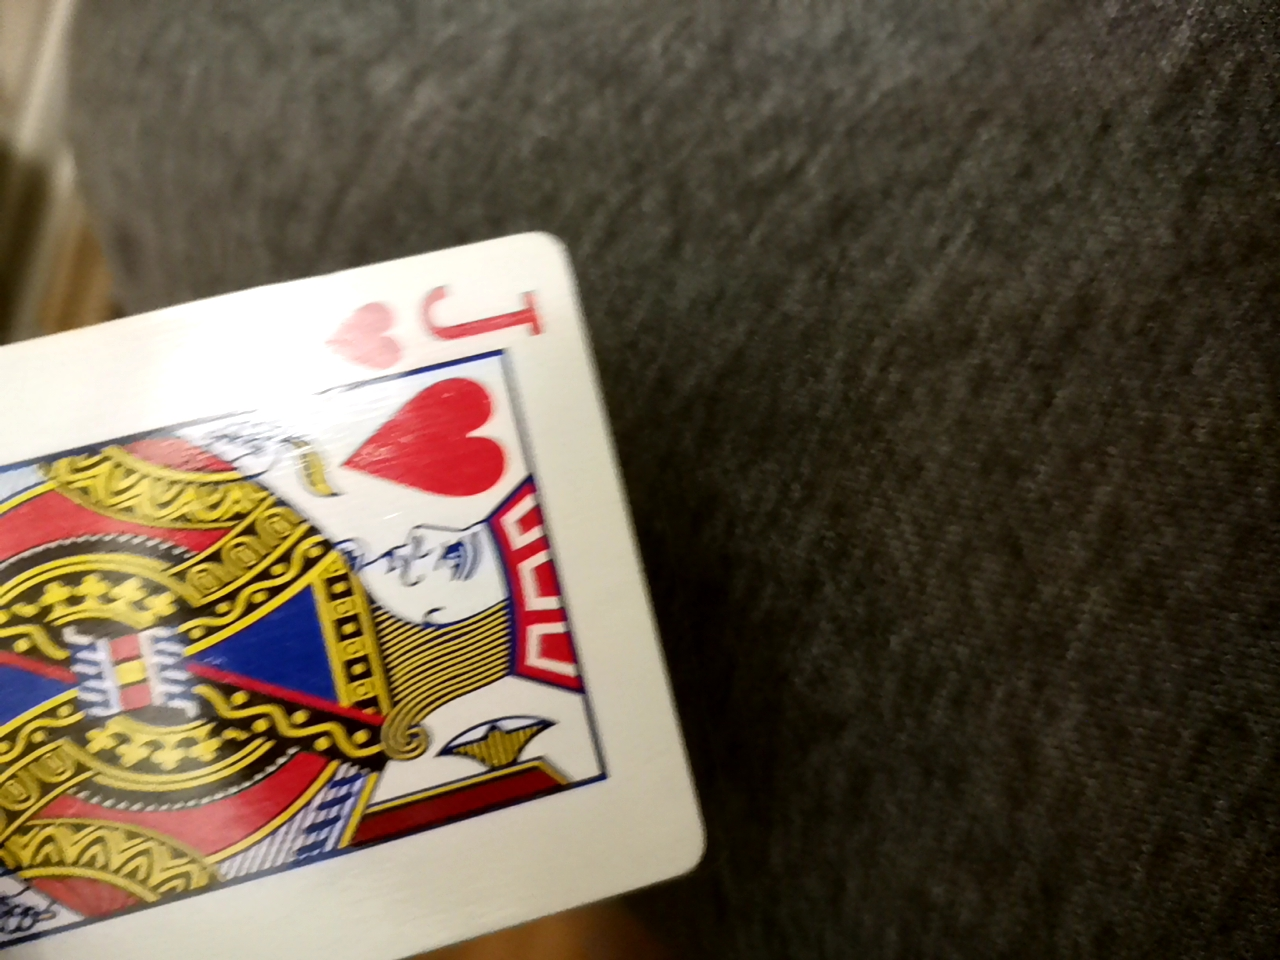hx j: (6, 228, 717, 952)
